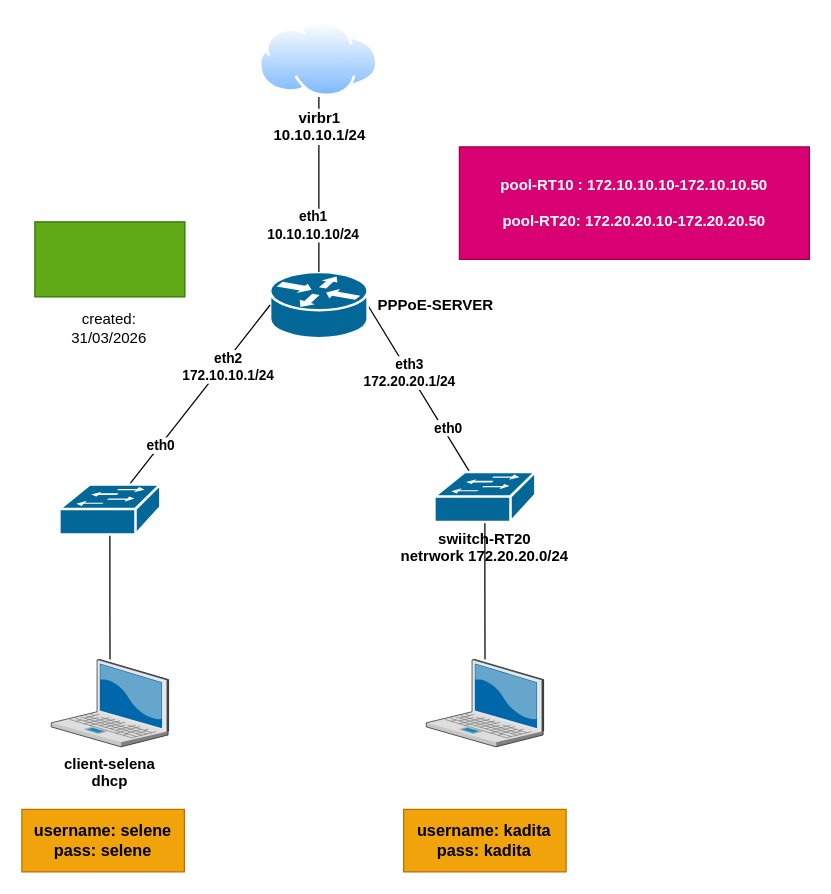
Some shapes in this 831 by 894 pixel diagram are drawn without their labels. The centre of each missing label's shape, as x and y in pixels:
"client-kadita dhcp" goes at pixel 484 702.
"PPPoE" goes at pixel 109 259.
"switch-RT10 network 172.10.10.0/24" goes at pixel 109 508.
